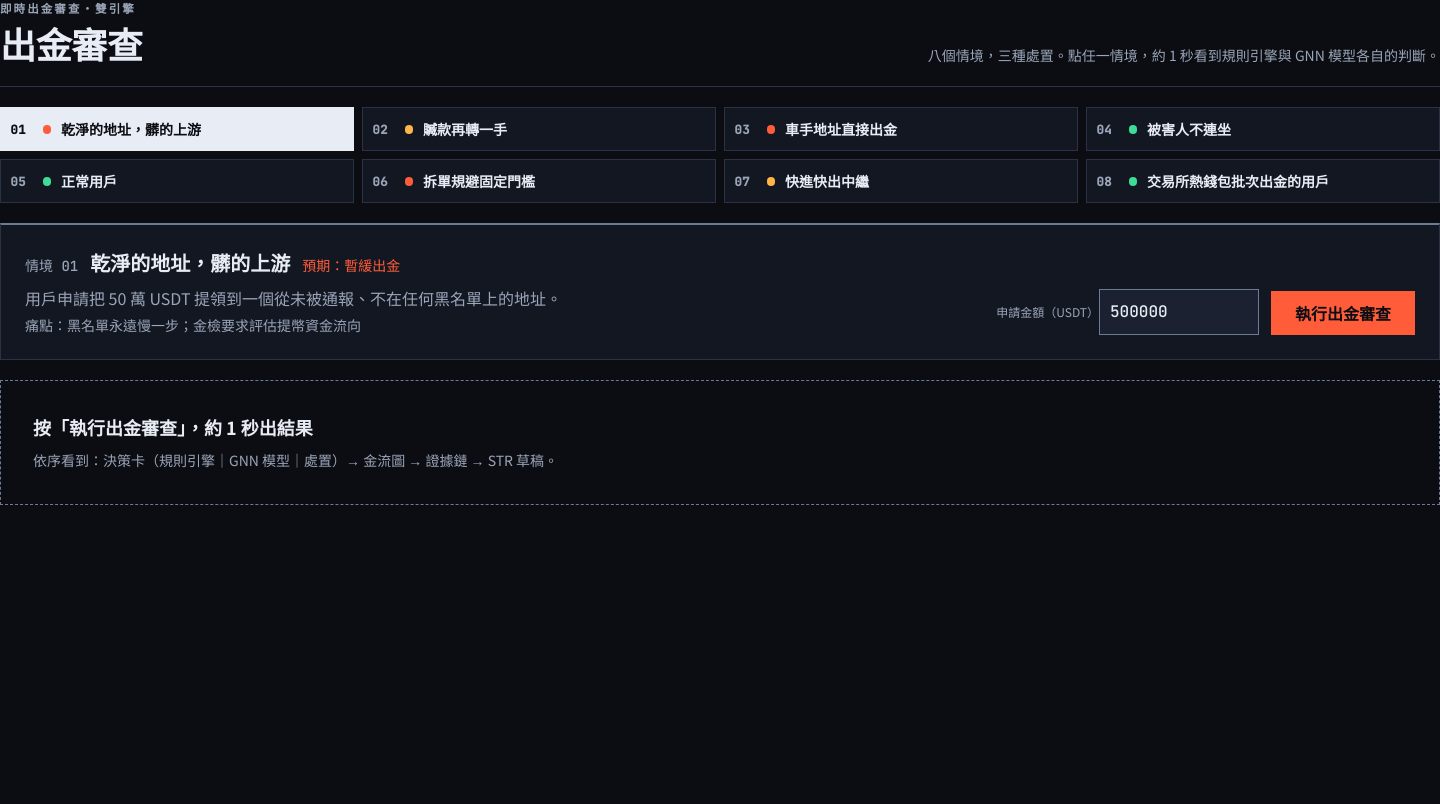
Test: Screening 離線快照保險網（I5） › 完全無法連線（status 0）時退回離線快照
What coordinates should you click on to do the following:
click the button "執行出金審查"
I would click on:
 (1343, 313)
Its box is x1=1271 y1=291 x2=1415 y2=335.
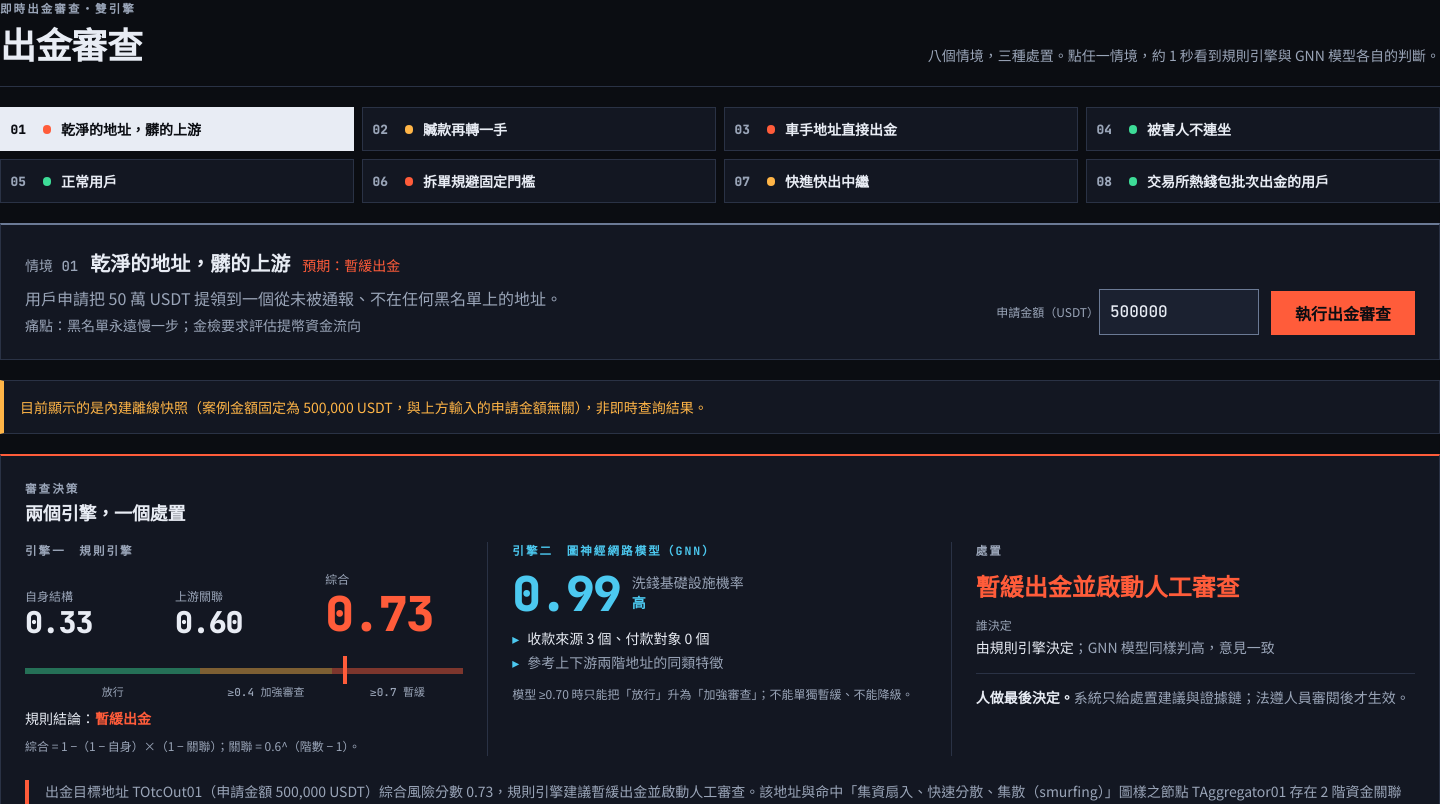
Expected: the text "0.73" is shown, x1=325 y1=582 x2=433 y2=645
Expected: the text "目前顯示的是內建離線快照（案例金額固定為 500,000 USDT，與上方輸入的申請金額無關），非即時查詢結果。" is shown, x1=20 y1=397 x2=708 y2=417
